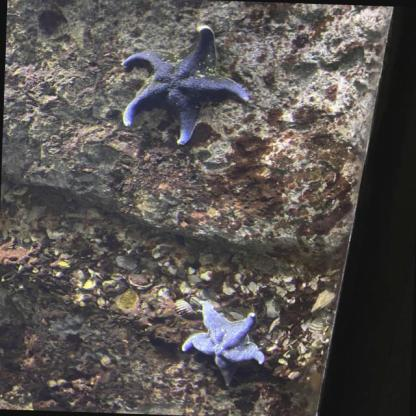starfish: (112, 20, 253, 148), (176, 298, 269, 392)
